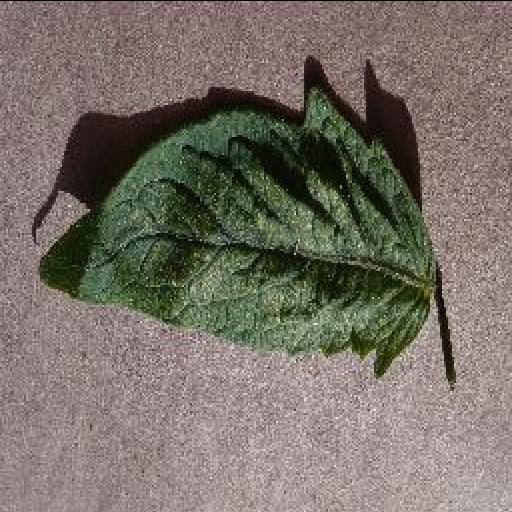disease_tomato: (38, 84, 432, 374)
